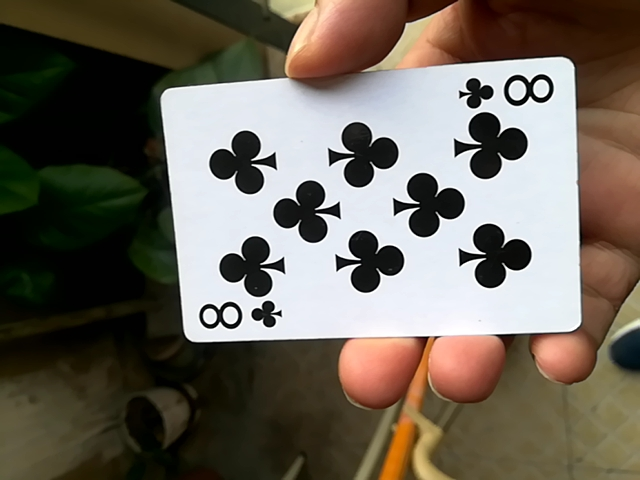mh 8: (170, 57, 592, 342)
